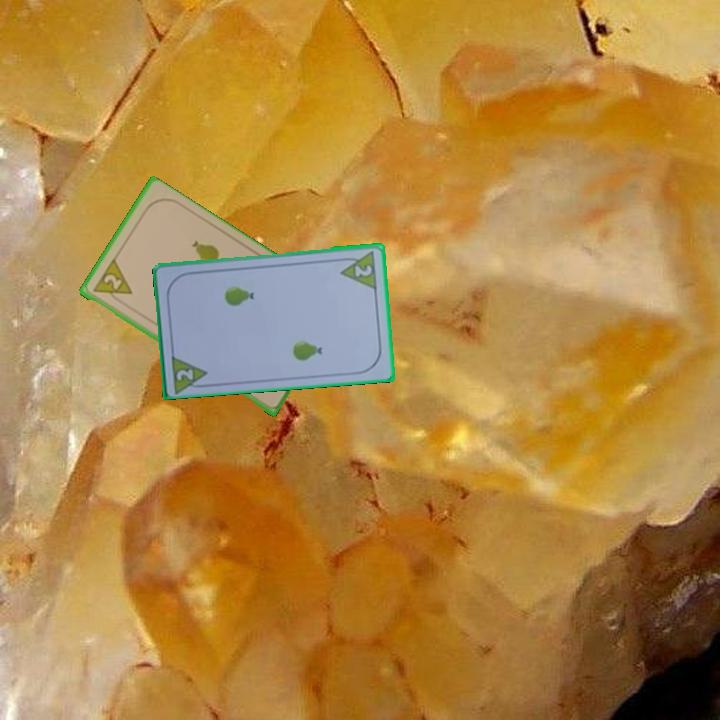2p: (89, 257, 135, 307), (337, 247, 380, 292), (172, 365, 196, 384)
